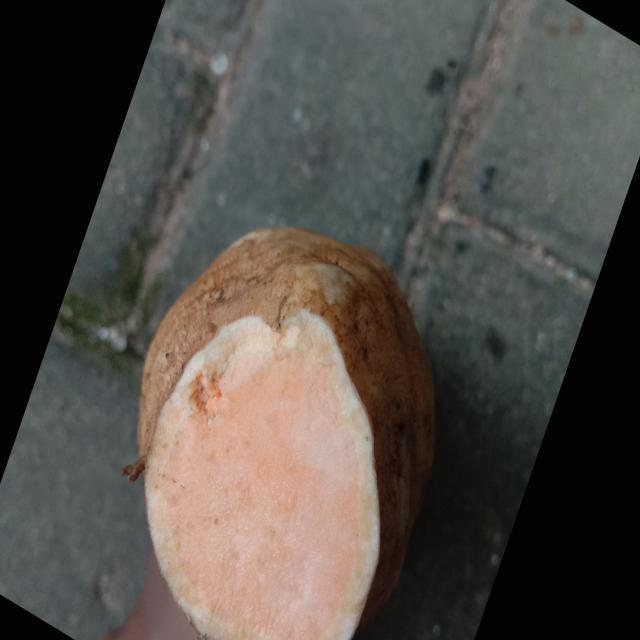Healthy Sweet Potato: (145, 312, 379, 638)
